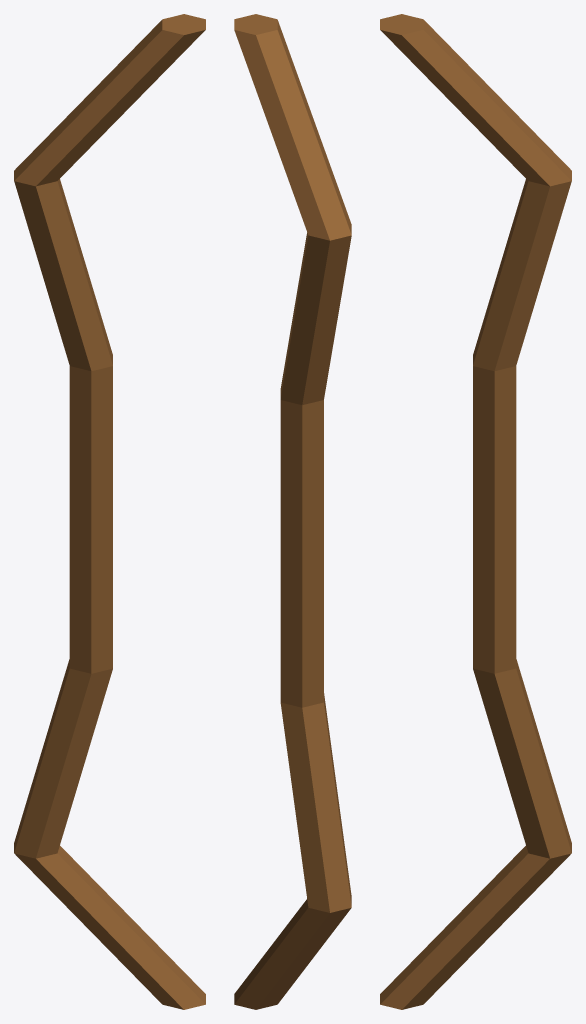
File: hunter_bow.glb
3 views of the same model, side by side, from view 1: azimuth 90°, elevation 25°; view 2: azimuth 210°, elevation 25°; view 3: azimuth 270°, elevation 25° (orthographic).
Visible parts, largest first — view 1: HunterBow; view 2: HunterBow; view 3: HunterBow.
Boxes of the visible parts, x1=… form: HunterBow: x1=14, y1=14, x2=205, y2=1009; HunterBow: x1=234, y1=14, x2=351, y2=1009; HunterBow: x1=380, y1=14, x2=571, y2=1009.
Bounding box in the file's own units: 0.054 × 1.16 × 0.2068.
